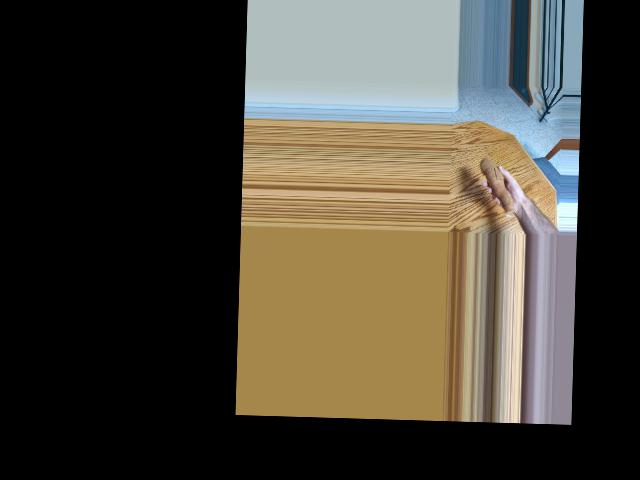sweet_potato: (478, 155, 520, 218)
